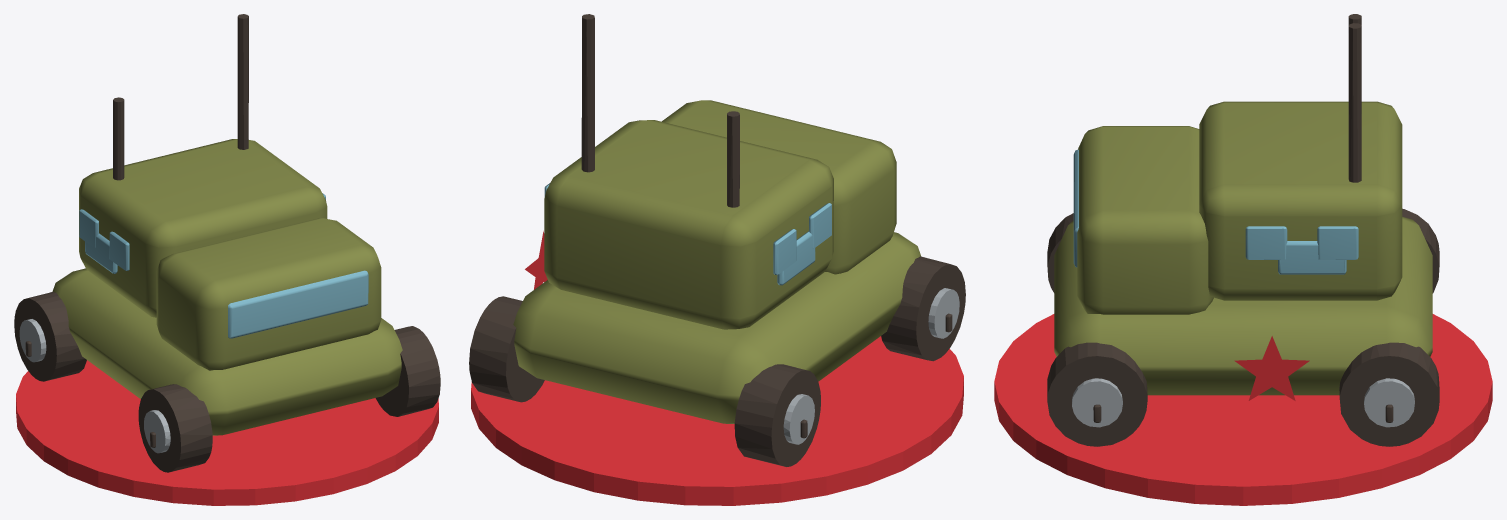
File: soviet_union_headquarters_lod0.glb
3 views of the same model, side by side, from view 1: azimuth 30°, elevation 25°; view 2: azimuth 150°, elevation 25°; view 3: azimuth 270°, elevation 25° (orthographic). The views are drawn at different scales.
Parts seen in each view (by area): view 1: body_hull, base_pedestal; view 2: body_hull, base_pedestal; view 3: body_hull, base_pedestal.
Boxes of the visible parts, x1=… form: body_hull: x1=14, y1=14, x2=440, y2=472; base_pedestal: x1=16, y1=360, x2=438, y2=505; body_hull: x1=469, y1=14, x2=965, y2=466; base_pedestal: x1=471, y1=336, x2=963, y2=505; body_hull: x1=1047, y1=14, x2=1439, y2=446; base_pedestal: x1=994, y1=314, x2=1492, y2=505.
Bounding box in the file's own units: 0.78 × 0.7101 × 0.78.
